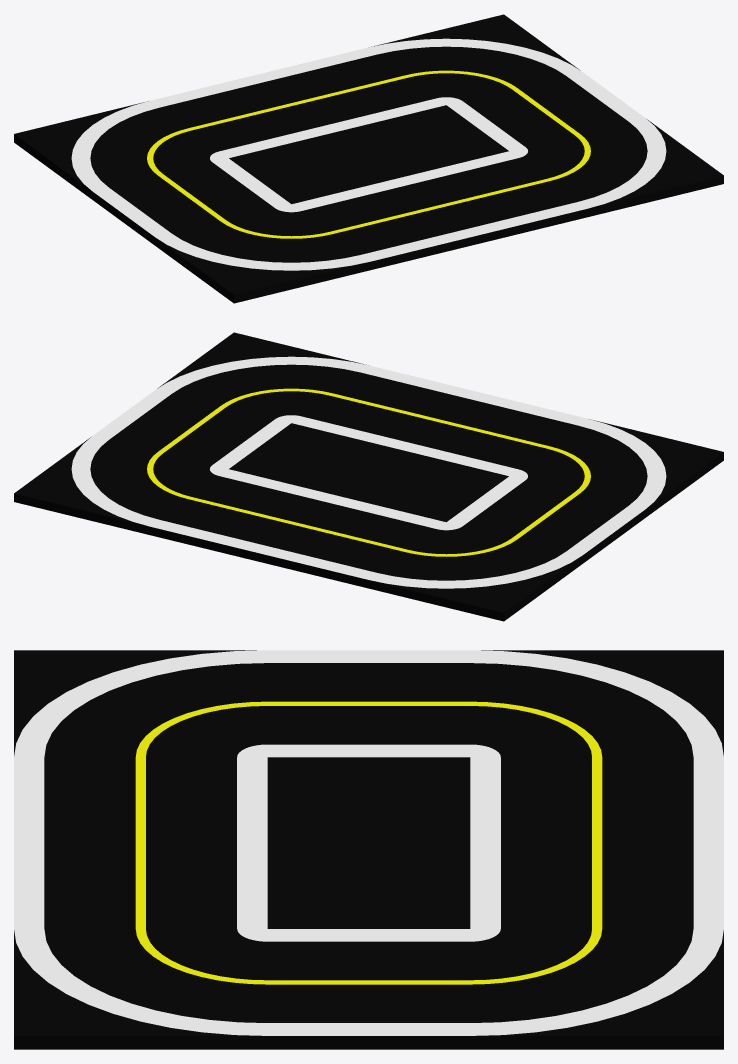
Rendered from circle_road_plane.dae.
3 views of the same model, one above another, from view 1: azimuth 30°, elevation 25°; view 2: azimuth 150°, elevation 25°; view 3: azimuth 270°, elevation 25° (orthographic). The views are drawn at different scales.
Visible parts, largest first — view 1: SketchUp (×5), group_0, group_1; view 2: SketchUp (×5), group_0, group_1; view 3: SketchUp (×5), group_0, group_1.
Boxes of the visible parts, x1=… form: SketchUp (×5): x1=14, y1=14, x2=723, y2=303; group_0: x1=90, y1=46, x2=647, y2=262; group_1: x1=153, y1=73, x2=584, y2=236; SketchUp (×5): x1=14, y1=332, x2=723, y2=621; group_0: x1=90, y1=364, x2=647, y2=580; group_1: x1=153, y1=391, x2=584, y2=554; SketchUp (×5): x1=14, y1=650, x2=723, y2=1049; group_0: x1=44, y1=663, x2=693, y2=1022; group_1: x1=146, y1=706, x2=591, y2=980.
Bounding box in the file's own units: 213 × 165 × 3.54.
